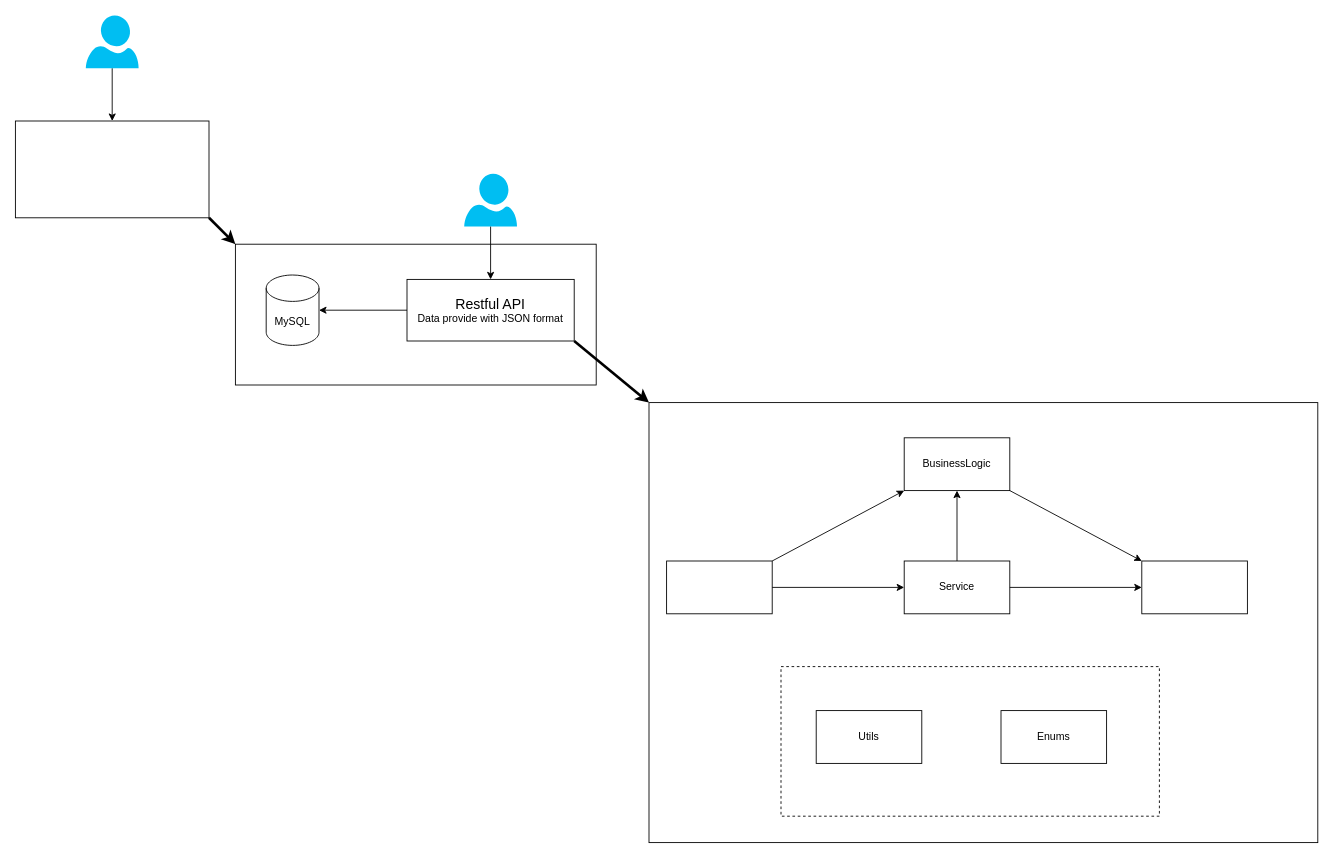
The diagram is 1333 pixels wide and 858 high, and some of its shapes have lost their labels. Each missing label, with the centre of its shape:
"Controller" goes at point 719,587.
"iCommerce System - Login - Browse product - Add shopping card" goes at point 112,169.
"Repository" goes at point 1194,587.
